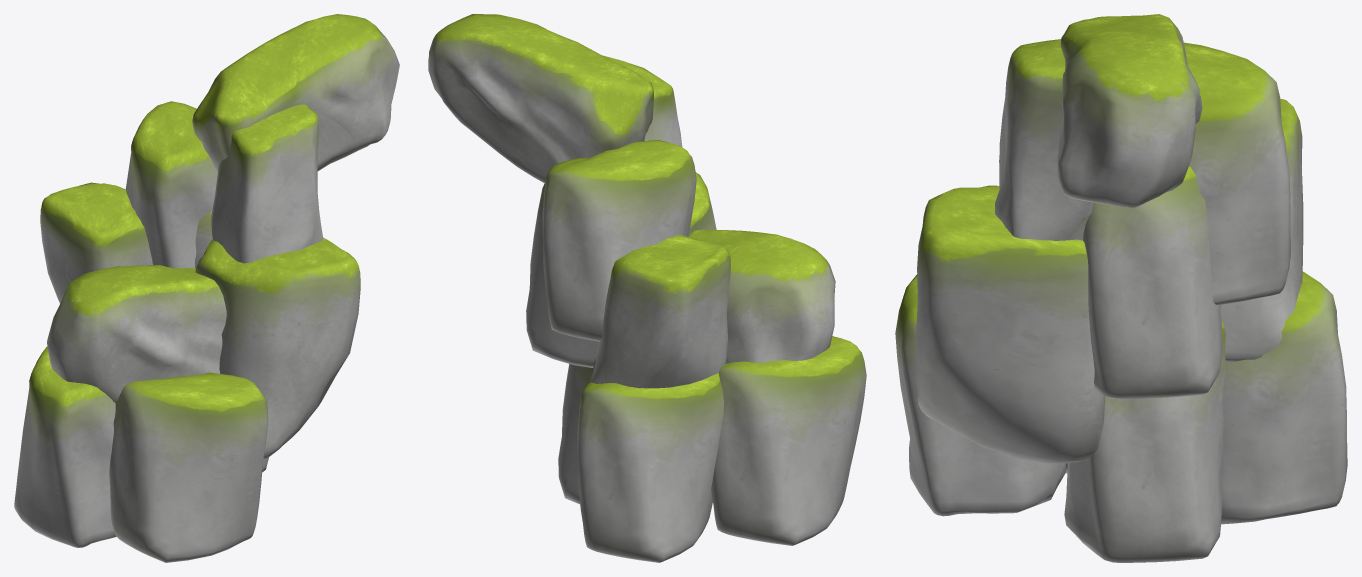
The model's file is SM_cliff_05.fbx.
The picture shows the model from 3 angles, left to right: view 1: azimuth 30°, elevation 25°; view 2: azimuth 150°, elevation 25°; view 3: azimuth 270°, elevation 25°; orthographic projection. The views are drawn at different scales.
Parts seen in each view (by area): view 1: Object32462; view 2: Object32462; view 3: Object32462.
Part boxes in pixels (bbox=[...]): Object32462: bbox=[14, 14, 399, 562]; Object32462: bbox=[428, 14, 866, 562]; Object32462: bbox=[895, 14, 1347, 562].
Size of the model in its own units: 337 by 356 by 253.
